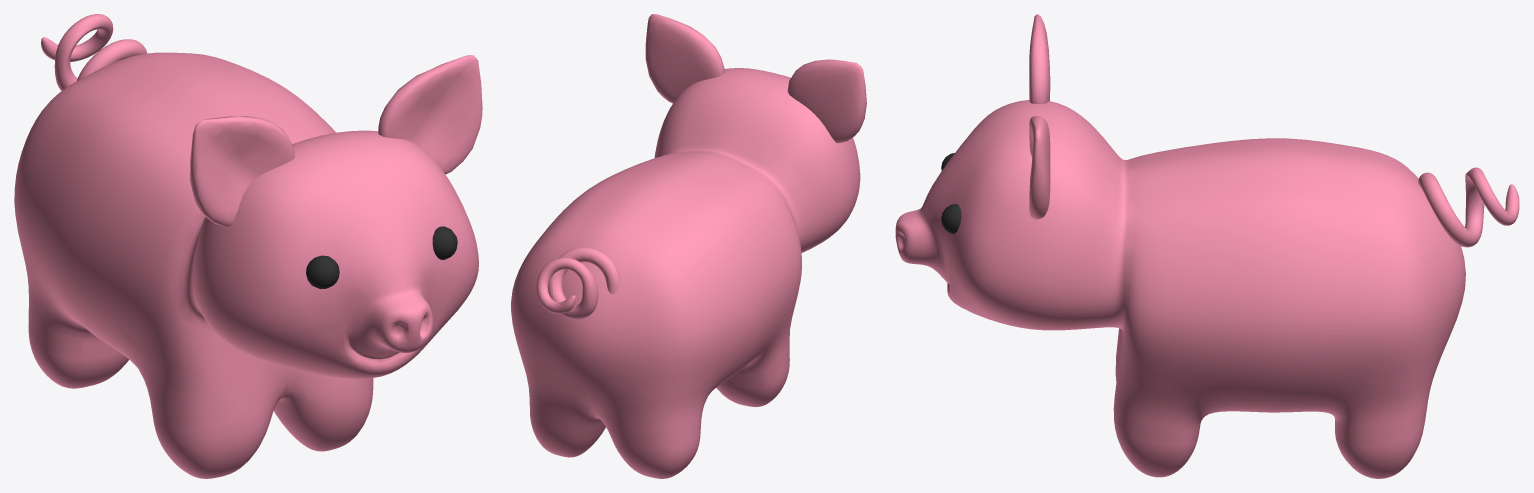
File: Pig.fbx
3 views of the same model, side by side, from view 1: azimuth 30°, elevation 25°; view 2: azimuth 150°, elevation 25°; view 3: azimuth 270°, elevation 25° (orthographic). The views are drawn at different scales.
Visible parts, largest first — view 1: Body, Ears, Circle, Eyes; view 2: Body, Ears, Circle; view 3: Body, Circle, Ears.
Part boxes in pixels (x1=…): Body: x1=14, y1=52, x2=478, y2=478; Ears: x1=190, y1=55, x2=482, y2=226; Circle: x1=41, y1=14, x2=147, y2=90; Eyes: x1=306, y1=226, x2=457, y2=288; Body: x1=511, y1=68, x2=860, y2=478; Ears: x1=645, y1=14, x2=866, y2=143; Circle: x1=536, y1=247, x2=620, y2=319; Body: x1=895, y1=100, x2=1465, y2=478; Circle: x1=1418, y1=167, x2=1519, y2=247; Ears: x1=1029, y1=14, x2=1050, y2=219.
Size of the model in its own units: 258 by 360 by 540.
